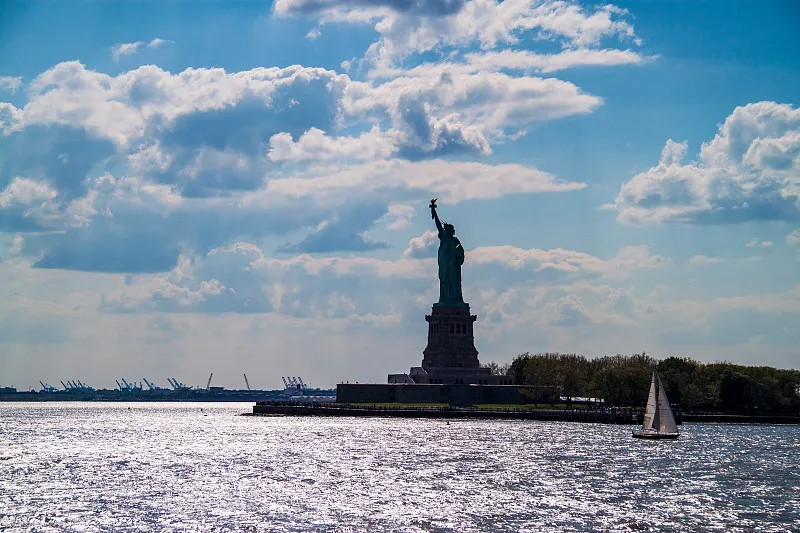SL: (421, 198, 479, 367)
